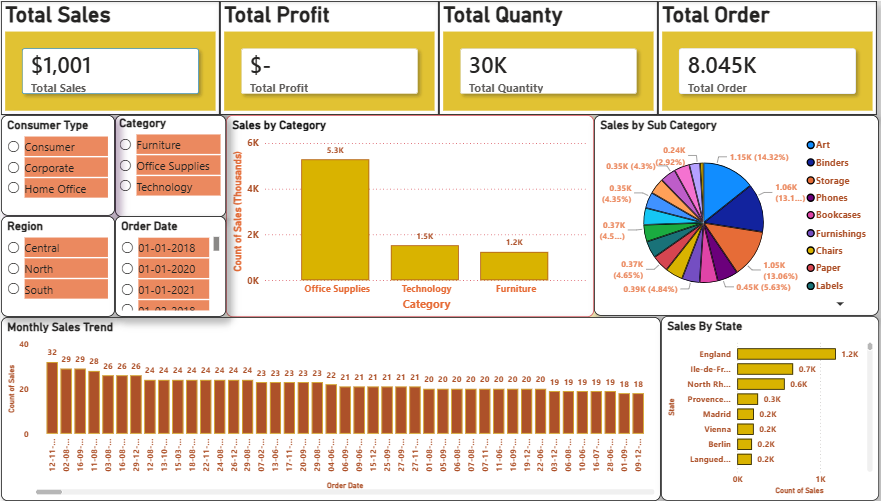

This screenshot's page, from the dashboard's own definition file:
{"tool":"powerbi","page":{"name":"Page 1","canvas":[1280,720],"ordinal":0},"visuals":[{"type":"cardVisual","title":"Total Sales","fields":{"Data":["Min(data_analytics data_sales.Sales)"]},"box":[0,0,315.4,164.2],"z":0},{"type":"cardVisual","title":"Total Profit","fields":{"Data":["Min(data_analytics data_sales.Profit)"]},"box":[315.4,0,315.4,164],"z":1000},{"type":"cardVisual","title":"Total Quanty","fields":{"Data":["Sum(data_analytics data_sales.Quantity)"]},"box":[630.7,0,315.4,164],"z":2000},{"type":"cardVisual","title":"Total Order","fields":{"Data":["CountNonNull(data_analytics data_sales.Order Date)"]},"box":[946.1,0,315.4,164],"z":3000},{"type":"clusteredColumnChart","title":"Sales by Category","fields":{"Category":["data_analytics data_sales.Category"],"Y":["CountNonNull(data_analytics data_sales.Sales)"]},"box":[324,164.2,529.9,290.9],"z":4000},{"type":"pieChart","title":" Sales by Sub Category","fields":{"Category":["data_analytics data_sales.Sub Category"],"Y":["CountNonNull(data_analytics data_sales.Sales)"]},"box":[853.9,164.2,410.4,289.4],"z":5000},{"type":"lineClusteredColumnComboChart","title":"Monthly Sales Trend","fields":{"Y":["CountNonNull(data_analytics data_sales.Sales)"],"Category":["data_analytics data_sales.Order Date"]},"box":[0,455,950.4,265],"z":6000},{"type":"clusteredBarChart","title":"Sales By State","fields":{"Category":["data_analytics data_sales.State"],"Y":["CountNonNull(data_analytics data_sales.Sales)"]},"box":[950.4,453.6,313.9,266.4],"z":7000},{"type":"listSlicer","fields":{"Values":["data_analytics data_sales.Category"]},"box":[164.2,164.2,159.8,146.9],"z":8000},{"type":"listSlicer","fields":{"Values":["data_analytics data_sales.Consumer Type"]},"box":[0,164.2,164.2,145.4],"z":9000},{"type":"listSlicer","fields":{"Values":["data_analytics data_sales.Region"]},"box":[0,309.6,164.2,145],"z":10000},{"type":"listSlicer","fields":{"Values":["data_analytics data_sales.Order Date"]},"box":[164.2,309.6,159.8,145],"z":11000}]}

Visuals, with their boxes in screenshot pixels (x1, y1, x2, y2), scaled from the page's 1280x720 canvas onto the 881x501 screenshot:
"Total Sales" cardVisual: [x1=0, y1=0, x2=217, y2=114]
"Total Profit" cardVisual: [x1=217, y1=0, x2=434, y2=114]
"Total Quanty" cardVisual: [x1=434, y1=0, x2=651, y2=114]
"Total Order" cardVisual: [x1=651, y1=0, x2=868, y2=114]
"Sales by Category" clusteredColumnChart: [x1=223, y1=114, x2=588, y2=317]
" Sales by Sub Category" pieChart: [x1=588, y1=114, x2=870, y2=316]
"Monthly Sales Trend" lineClusteredColumnComboChart: [x1=0, y1=317, x2=654, y2=500]
"Sales By State" clusteredBarChart: [x1=654, y1=316, x2=870, y2=500]
listSlicer - data_analytics data_sales.Category: [x1=113, y1=114, x2=223, y2=216]
listSlicer - data_analytics data_sales.Consumer Type: [x1=0, y1=114, x2=113, y2=215]
listSlicer - data_analytics data_sales.Region: [x1=0, y1=215, x2=113, y2=316]
listSlicer - data_analytics data_sales.Order Date: [x1=113, y1=215, x2=223, y2=316]
